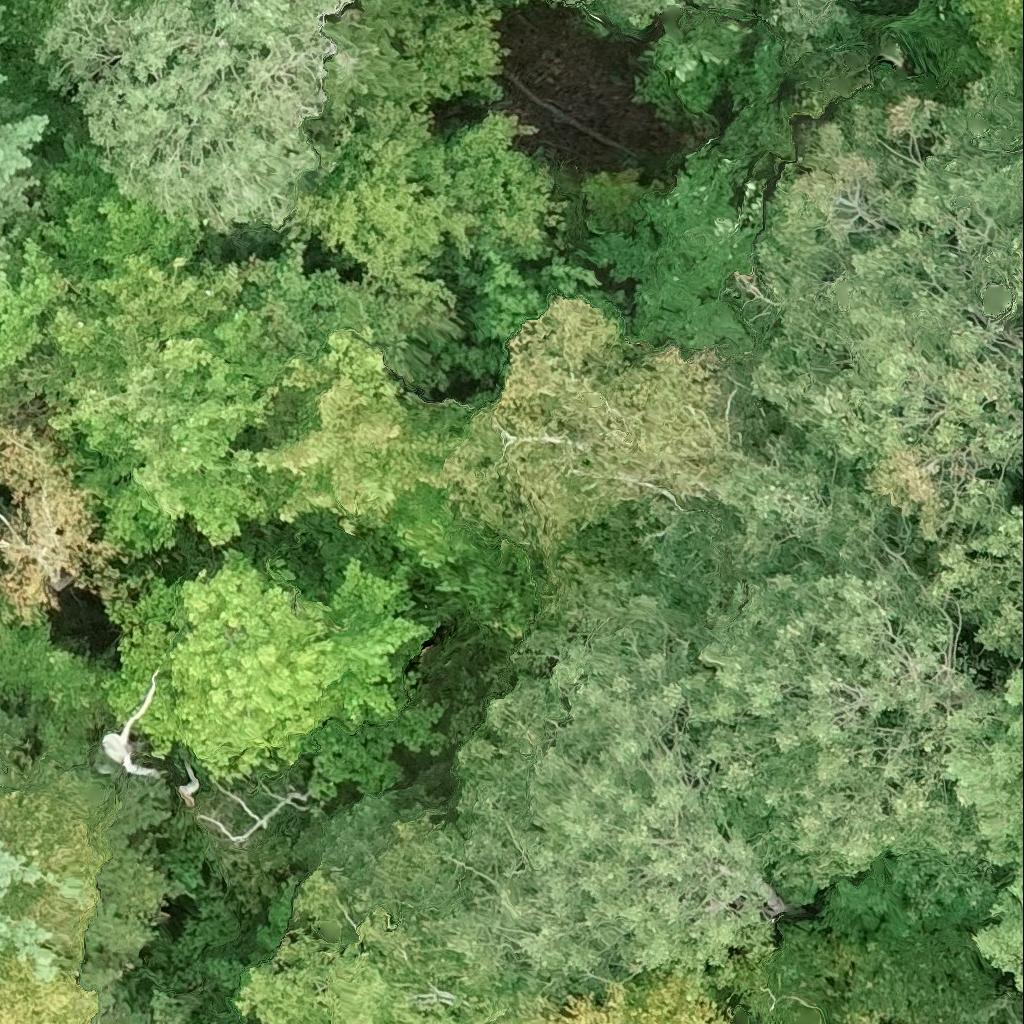crown: (736, 81, 1023, 541), (0, 133, 288, 554), (437, 293, 741, 557), (42, 0, 349, 234), (253, 329, 477, 537), (583, 144, 768, 349), (320, 2, 427, 123), (0, 233, 68, 390), (0, 117, 49, 233), (592, 0, 742, 25), (963, 0, 1023, 57), (770, 0, 857, 30), (0, 71, 8, 87), (0, 14, 6, 34), (1023, 355, 1023, 356), (670, 341, 670, 341)
